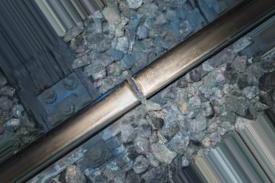tracks_fault: (121, 72, 153, 112)
